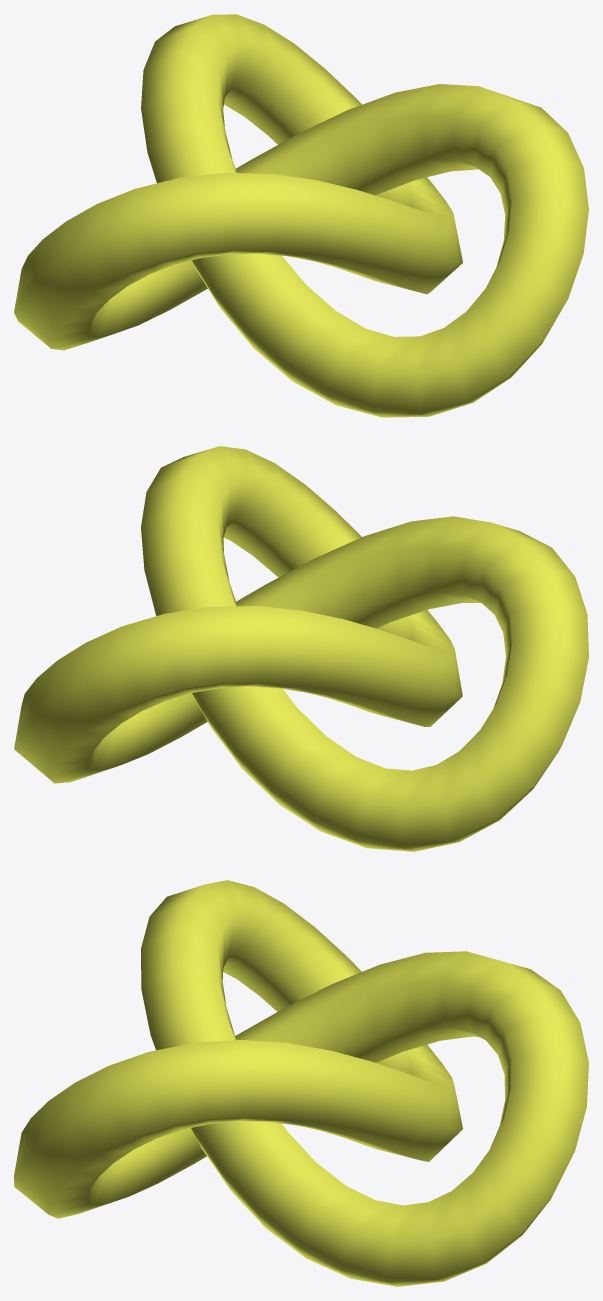
The model's file is M_Prop_BigKnot.fbx.
3 views of the same model, one above another, from view 1: azimuth 30°, elevation 25°; view 2: azimuth 150°, elevation 25°; view 3: azimuth 270°, elevation 25° (orthographic).
Visible parts, largest first — view 1: TorusKnot; view 2: TorusKnot; view 3: TorusKnot.
Part boxes in pixels (x1,y1,x2,y2): TorusKnot: [14, 14, 588, 417]; TorusKnot: [14, 446, 588, 851]; TorusKnot: [14, 880, 588, 1286].
Size of the model in its own units: 2537 by 2701 by 1266.
